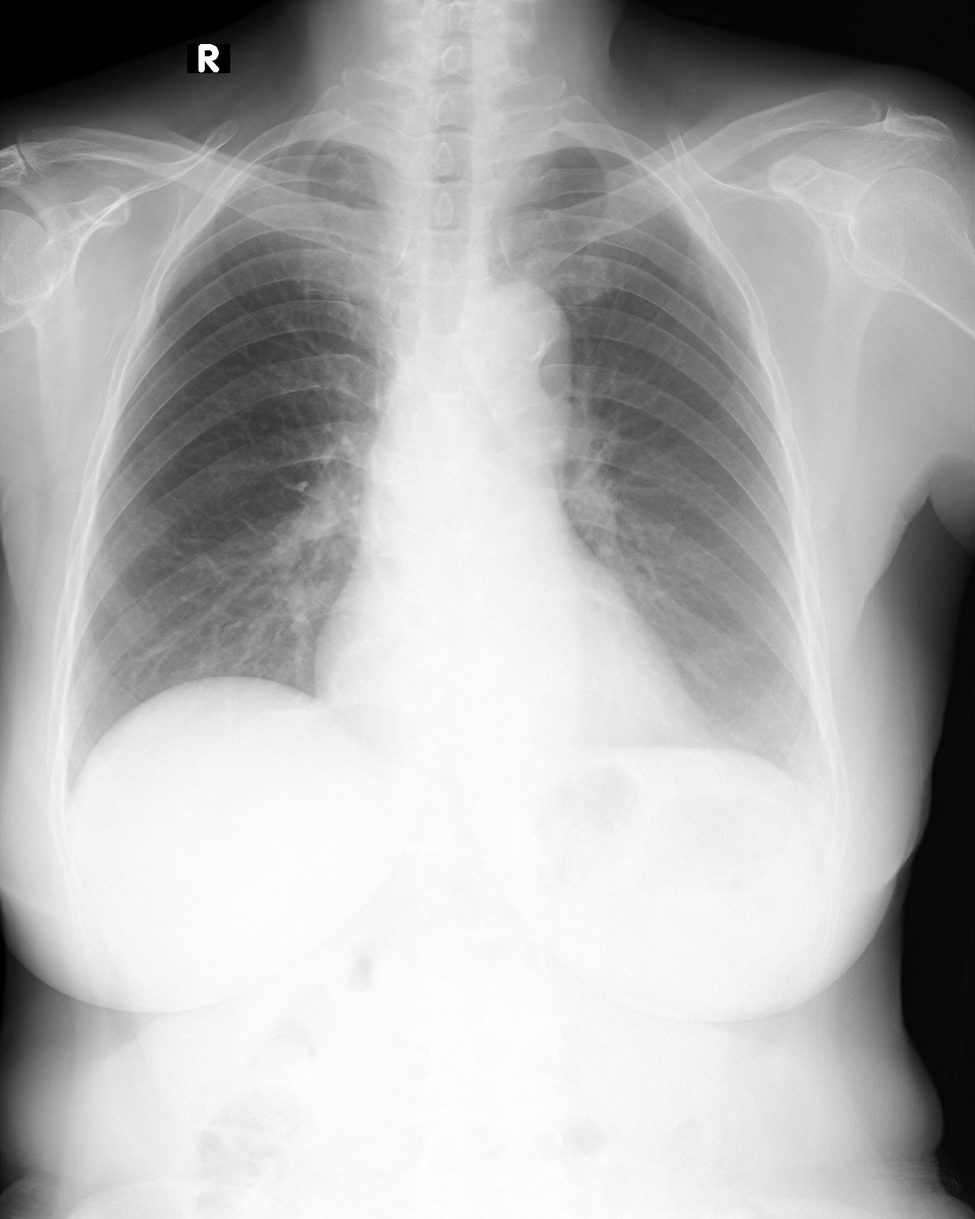Aortic enlargement: (464, 279, 573, 426)
Cardiomegaly: (306, 611, 724, 779)
Pleural thickening: (311, 139, 383, 160)
Pulmonary fibrosis: (275, 477, 316, 500)
